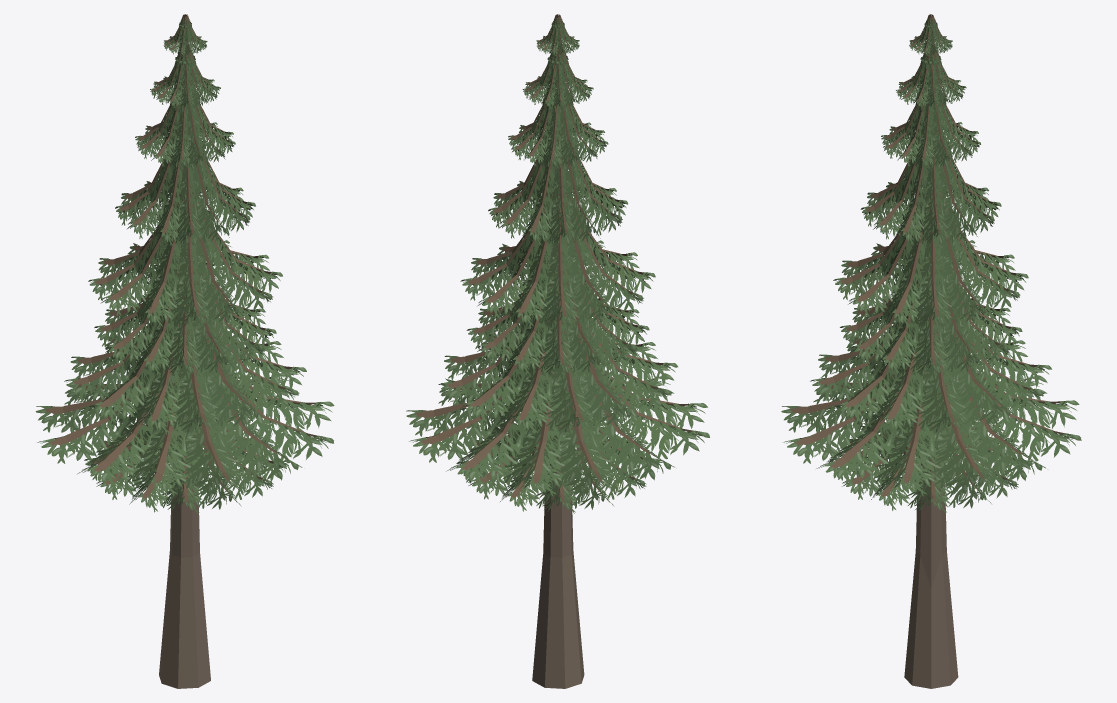
Rendered from PineTree.fbx.
The picture shows the model from 3 angles, left to right: view 1: azimuth 30°, elevation 25°; view 2: azimuth 150°, elevation 25°; view 3: azimuth 270°, elevation 25°; orthographic projection.
Parts seen in each view (by area): view 1: Cylinder; view 2: Cylinder; view 3: Cylinder.
Boxes of the visible parts, x1=… form: Cylinder: x1=35, y1=14, x2=334, y2=688; Cylinder: x1=406, y1=14, x2=709, y2=688; Cylinder: x1=781, y1=14, x2=1081, y2=688.
Size of the model in its own units: 528 by 1121 by 525.
